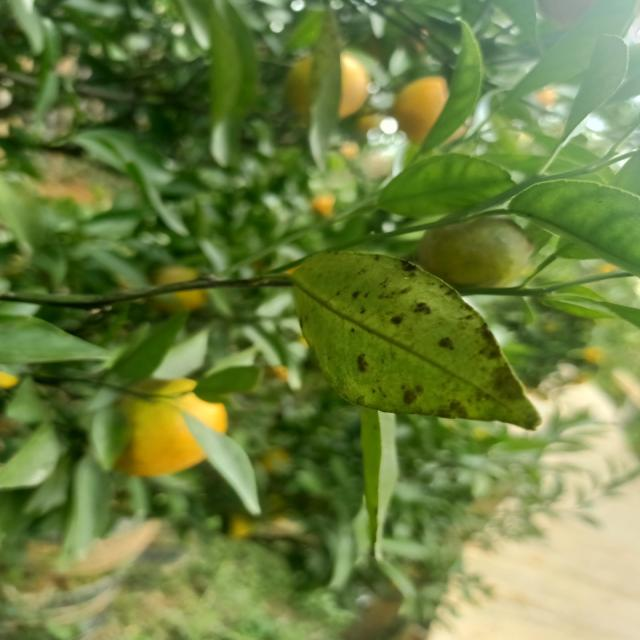melanose: (282, 242, 543, 438)
